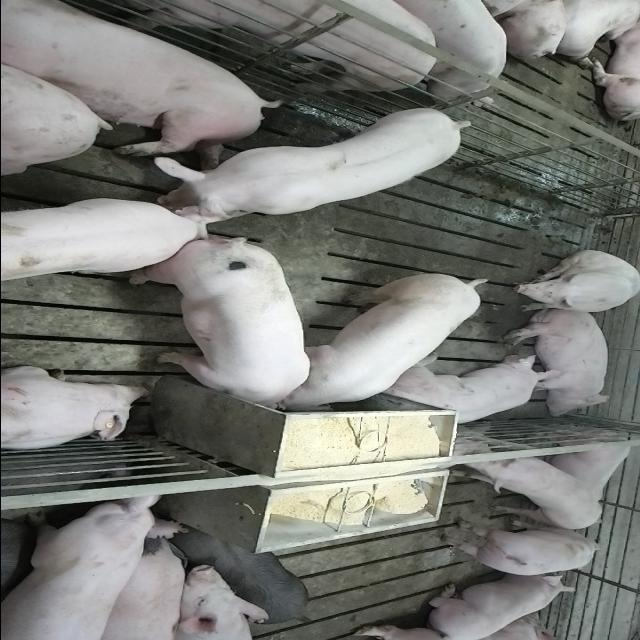Feeding: (127, 243, 310, 419), (278, 268, 496, 411)
Lateral_lying: (500, 308, 612, 417)
Sitting: (503, 250, 638, 314)
Standing: (0, 0, 446, 96), (154, 102, 480, 222), (0, 492, 181, 638), (0, 192, 209, 280), (178, 528, 310, 626), (390, 0, 512, 106), (457, 452, 604, 531), (88, 536, 190, 640), (436, 526, 604, 580)
Sternal_lying: (0, 366, 150, 454), (380, 358, 550, 430), (426, 572, 576, 637)
